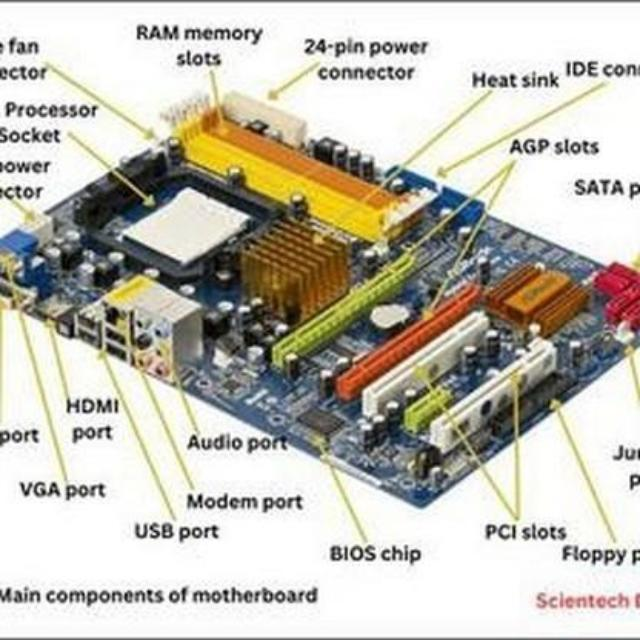Mainboard: (0, 96, 640, 510)
